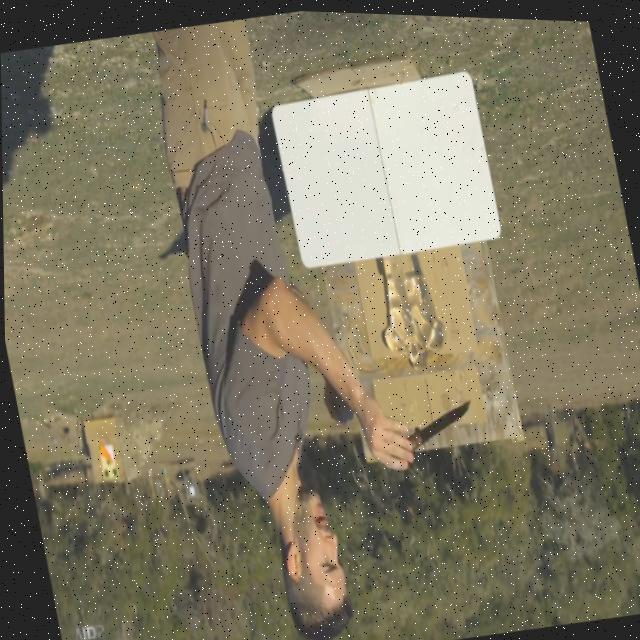knife: (401, 391, 475, 450)
